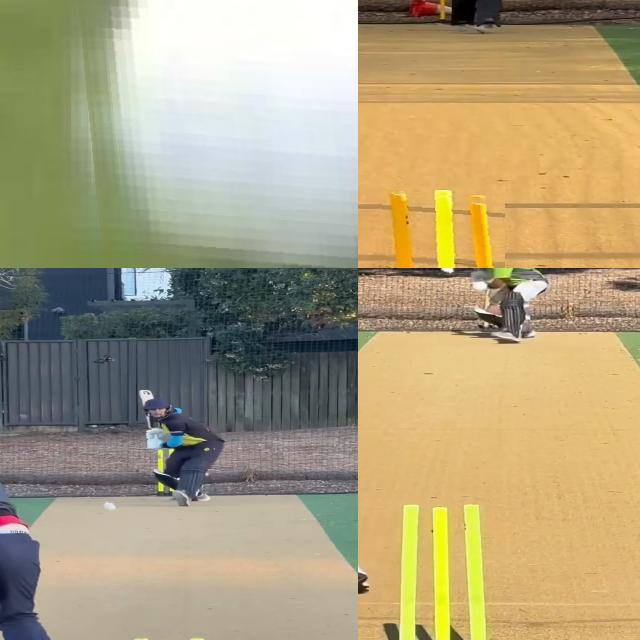Cricket ball: (66, 0, 358, 268), (102, 499, 120, 511), (440, 268, 458, 274)
Stumps: (382, 505, 503, 640), (373, 190, 504, 268)
